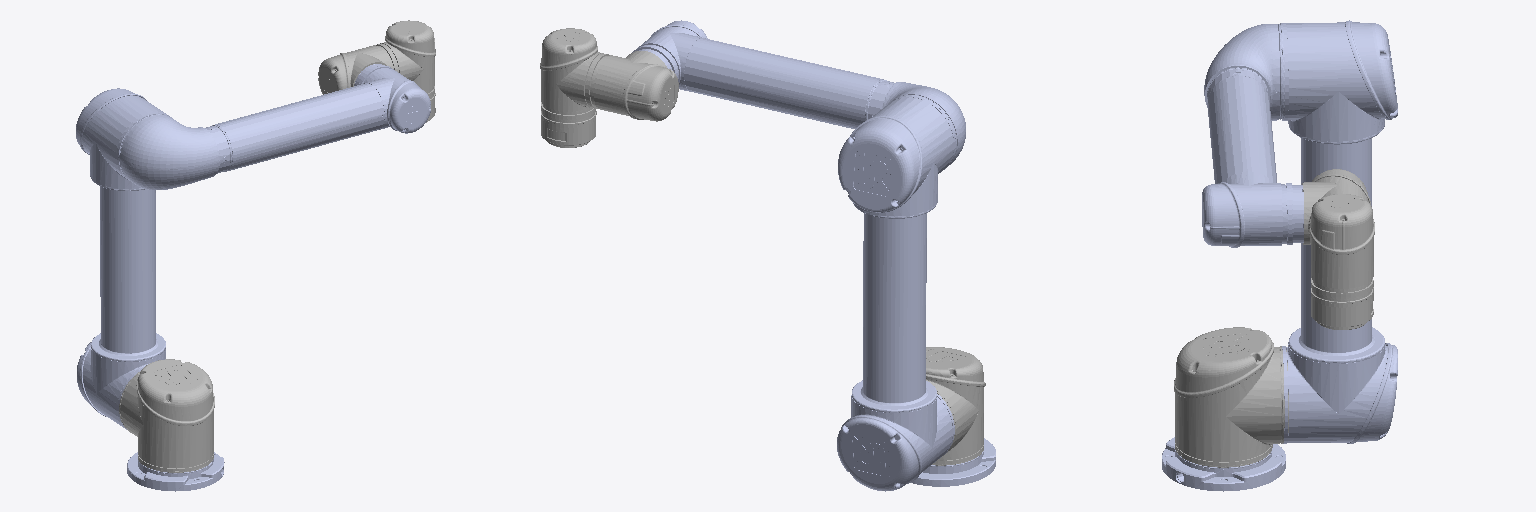
URDF robot description (UR5):
<?xml version="1.0" encoding="utf-8"?>
<!-- This URDF was automatically created by SolidWorks to URDF Exporter! Originally created by [author] ([email redacted]) 
     Commit Version: 1.6.0-1-g15f4949  Build Version: 1.6.7594.29634
     For more information, please see http://wiki.ros.org/sw_urdf_exporter -->
<robot
  name="UR5">
  <link
    name="base_link">
    <inertial>
      <origin
        xyz="0.000508526259934856 -0.000508508561687783 0.0139806772218251"
        rpy="0 0 0" />
      <mass
        value="0.364520373908984" />
      <inertia
        ixx="0.000470063179700844"
        ixy="-1.7529147900457E-05"
        ixz="-1.52398754952589E-06"
        iyy="0.000470063721184079"
        iyz="1.52397192563162E-06"
        izz="0.000832389642889368" />
    </inertial>
    <visual>
      <origin
        xyz="0 0 0"
        rpy="0 0 0" />
      <geometry>
        <mesh
          filename="package://UR5/meshes/base_link.STL" />
      </geometry>
      <material
        name="">
        <color
          rgba="0.792156862745098 0.819607843137255 0.933333333333333 1" />
      </material>
    </visual>
    <collision>
      <origin
        xyz="0 0 0"
        rpy="0 0 0" />
      <geometry>
        <mesh
          filename="package://UR5/meshes/base_link.STL" />
      </geometry>
    </collision>
  </link>
  <link
    name="link1">
    <inertial>
      <origin
        xyz="-4.84042790021167E-06 0.0142173759494507 0.0871507984143935"
        rpy="0 0 0" />
      <mass
        value="1.5891952889241" />
      <inertia
        ixx="0.00263829101159424"
        ixy="3.81692317606559E-07"
        ixz="1.47391642975789E-07"
        iyy="0.00253400012721666"
        iyz="-0.000324668996881741"
        izz="0.00295838626556267" />
    </inertial>
    <visual>
      <origin
        xyz="0 0 0"
        rpy="0 0 0" />
      <geometry>
        <mesh
          filename="package://UR5/meshes/link1.STL" />
      </geometry>
      <material
        name="">
        <color
          rgba="0.752941176470588 0.752941176470588 0.752941176470588 1" />
      </material>
    </visual>
    <collision>
      <origin
        xyz="0 0 0"
        rpy="0 0 0" />
      <geometry>
        <mesh
          filename="package://UR5/meshes/link1.STL" />
      </geometry>
    </collision>
  </link>
  <joint
    name="joint1"
    type="revolute">
    <origin
      xyz="0 0 0"
      rpy="0 0 0.0397540605490848" />
    <parent
      link="base_link" />
    <child
      link="link1" />
    <axis
      xyz="0 0 1" />
    <limit
      lower="-3.14"
      upper="3.14"
      effort="100"
      velocity="1" />
  </joint>
  <link
    name="link2">
    <inertial>
      <origin
        xyz="0.215874945155153 -0.000840291694169119 0.00158860552786166"
        rpy="0 0 0" />
      <mass
        value="4.66984003194874" />
      <inertia
        ixx="0.00644513606125021"
        ixy="6.20918316059967E-07"
        ixz="4.11129701094977E-07"
        iyy="0.0213594429680863"
        iyz="-4.79479660646766E-09"
        izz="0.0219378544736571" />
    </inertial>
    <visual>
      <origin
        xyz="0 0 0"
        rpy="0 0 0" />
      <geometry>
        <mesh
          filename="package://UR5/meshes/link2.STL" />
      </geometry>
      <material
        name="">
        <color
          rgba="0.792156862745098 0.819607843137255 0.933333333333333 1" />
      </material>
    </visual>
    <collision>
      <origin
        xyz="0 0 0"
        rpy="0 0 0" />
      <geometry>
        <mesh
          filename="package://UR5/meshes/link2.STL" />
      </geometry>
    </collision>
  </link>
  <joint
    name="joint2"
    type="revolute">
    <origin
      xyz="-0.000842306198299934 0.134997372271716 0.0909999999999993"
      rpy="-1.57703561776167 -1.56660937830518 -3.13535330793498" />
    <parent
      link="link1" />
    <child
      link="link2" />
    <axis
      xyz="-2.61235730425201E-05 0 -0.99999999965878" />
    <limit
      lower="-3.14"
      upper="3.14"
      effort="100"
      velocity="1" />
  </joint>
  <link
    name="link3">
    <inertial>
      <origin
        xyz="0.173825779004825 -7.19771879875708E-08 0.00712372342748107"
        rpy="0 0 0" />
      <mass
        value="2.39902568058816" />
      <inertia
        ixx="0.00204230829829926"
        ixy="1.32580019867078E-08"
        ixz="0.000125749259549328"
        iyy="0.011470804052695"
        iyz="1.22334576041164E-08"
        izz="0.0115872357553509" />
    </inertial>
    <visual>
      <origin
        xyz="0 0 0"
        rpy="0 0 0" />
      <geometry>
        <mesh
          filename="package://UR5/meshes/link3.STL" />
      </geometry>
      <material
        name="">
        <color
          rgba="0.792156862745098 0.819607843137255 0.933333333333333 1" />
      </material>
    </visual>
    <collision>
      <origin
        xyz="0 0 0"
        rpy="0 0 0" />
      <geometry>
        <mesh
          filename="package://UR5/meshes/link3.STL" />
      </geometry>
    </collision>
  </link>
  <joint
    name="joint3"
    type="revolute">
    <origin
      xyz="0.424999632801095 -0.000838421649302301 0.120936269804031"
      rpy="3.14156653012136 0 -1.56796625332018" />
    <parent
      link="link2" />
    <child
      link="link3" />
    <axis
      xyz="0 0 1" />
    <limit
      lower="-3.14"
      upper="3.14"
      effort="100"
      velocity="1" />
  </joint>
  <link
    name="link4">
    <inertial>
      <origin
        xyz="0.00644909190360127 -4.99155548006058E-08 0.0074574524837603"
        rpy="0 0 0" />
      <mass
        value="0.32180853049483" />
      <inertia
        ixx="0.00026871950213181"
        ixy="2.74341037582335E-10"
        ixz="2.98851535430985E-05"
        iyy="0.00025350354860463"
        iyz="3.94709232700307E-11"
        izz="0.000235432884445418" />
    </inertial>
    <visual>
      <origin
        xyz="0 0 0"
        rpy="0 0 0" />
      <geometry>
        <mesh
          filename="package://UR5/meshes/link4.STL" />
      </geometry>
      <material
        name="">
        <color
          rgba="0.752941176470588 0.752941176470588 0.752941176470588 1" />
      </material>
    </visual>
    <collision>
      <origin
        xyz="0 0 0"
        rpy="0 0 0" />
      <geometry>
        <mesh
          filename="package://UR5/meshes/link4.STL" />
      </geometry>
    </collision>
  </link>
  <joint
    name="joint4"
    type="revolute">
    <origin
      xyz="0.407866379310346 0 0.10746551724138"
      rpy="3.14159265358979 0 0" />
    <parent
      link="link3" />
    <child
      link="link4" />
    <axis
      xyz="0 0 1" />
    <limit
      lower="-3.14"
      upper="3.14"
      effort="100"
      velocity="1" />
  </joint>
  <link
    name="link5">
    <inertial>
      <origin
        xyz="0.00644908091769336 -1.26212125153846E-07 0.00745751196141309"
        rpy="0 0 0" />
      <mass
        value="0.321808772934672" />
      <inertia
        ixx="0.000268719507539268"
        ixy="-2.44926070359694E-10"
        ixz="2.98851787350483E-05"
        iyy="0.000253503729315118"
        iyz="-1.80302927625091E-10"
        izz="0.0002354331699762" />
    </inertial>
    <visual>
      <origin
        xyz="0 0 0"
        rpy="0 0 0" />
      <geometry>
        <mesh
          filename="package://UR5/meshes/link5.STL" />
      </geometry>
      <material
        name="">
        <color
          rgba="0.752941176470588 0.752941176470588 0.752941176470588 1" />
      </material>
    </visual>
    <collision>
      <origin
        xyz="0 0 0"
        rpy="0 0 0" />
      <geometry>
        <mesh
          filename="package://UR5/meshes/link5.STL" />
      </geometry>
    </collision>
  </link>
  <joint
    name="joint5"
    type="revolute">
    <origin
      xyz="0.0954655172413791 0 0"
      rpy="1.5707963267949 0.000138972860478114 -1.5707963267949" />
    <parent
      link="link4" />
    <child
      link="link5" />
    <axis
      xyz="0 0 1" />
    <limit
      lower="-3.14"
      upper="3.14"
      effort="100"
      velocity="1" />
  </joint>
  <link
    name="link6">
    <inertial>
      <origin
        xyz="-0.000143015174432243 -5.68944980139374E-06 0.0226740377812761"
        rpy="0 0 0" />
      <mass
        value="0.164823391239255" />
      <inertia
        ixx="6.87572385907997E-05"
        ixy="2.77330517711283E-08"
        ixz="-1.05509942732267E-07"
        iyy="6.80628736687329E-05"
        iyz="-4.19749693271069E-09"
        izz="0.000116042609690602" />
    </inertial>
    <visual>
      <origin
        xyz="0 0 0"
        rpy="0 0 0" />
      <geometry>
        <mesh
          filename="package://UR5/meshes/link6.STL" />
      </geometry>
      <material
        name="">
        <color
          rgba="0.752941176470588 0.752941176470588 0.752941176470588 1" />
      </material>
    </visual>
    <collision>
      <origin
        xyz="0 0 0"
        rpy="0 0 0" />
      <geometry>
        <mesh
          filename="package://UR5/meshes/link6.STL" />
      </geometry>
    </collision>
  </link>
  <joint
    name="joint6"
    type="revolute">
    <origin
      xyz="0.0961691379310347 0 0"
      rpy="1.5707963267949 0.03975308481327 -1.5707963267949" />
    <parent
      link="link5" />
    <child
      link="link6" />
    <axis
      xyz="0 0 1" />
    <limit
      lower="-3.14"
      upper="3.14"
      effort="100"
      velocity="1" />
  </joint>
</robot>

--- Facts derived from the render (not from the file) ---
3 views of the same robot in one strip: view 1: azimuth 30°, elevation 25°; view 2: azimuth 150°, elevation 25°; view 3: azimuth 270°, elevation 25° (orthographic).
Robot: UR5 — 7 links, 6 joints (6 revolute); root link base_link; default pose: all joints at 0.
Links seen in each view (by area): view 1: link2, link3, link1, link5, link4, base_link; view 2: link2, link3, link4, link1, link5, base_link, link6; view 3: link2, link3, link1, link5, base_link, link6, link4.
Boxes of the visible links, x1,y1,x2,y2 form: link2: (76,88,171,429); link3: (119,64,430,189); link1: (119,359,214,472); link5: (380,20,435,97); link4: (318,43,398,94); base_link: (127,452,224,491); link2: (837,95,956,491); link3: (632,20,965,164); link4: (585,51,678,121); link1: (926,347,985,465); link5: (540,28,600,119); base_link: (912,438,995,486); link6: (541,111,596,147); link2: (1280,20,1397,443); link3: (1202,24,1303,247); link1: (1174,327,1288,467); link5: (1309,194,1374,298); base_link: (1162,437,1285,491); link6: (1311,287,1373,329); link4: (1302,169,1371,244).
Size in the robot's own frame: 0.6099 by 0.283 by 0.5761 metres.
7 mesh visuals loaded from 7 distinct referenced files (7 binary STL).